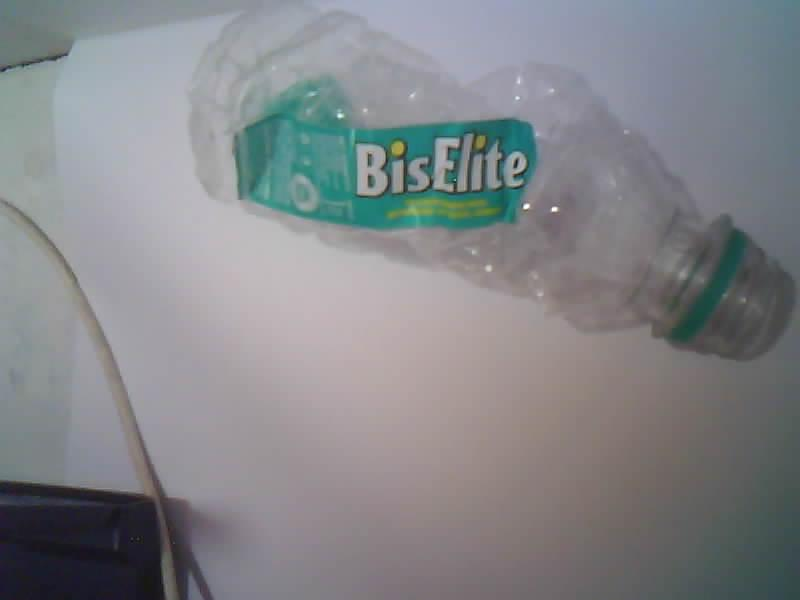non-biodegradable: (189, 4, 793, 359)
